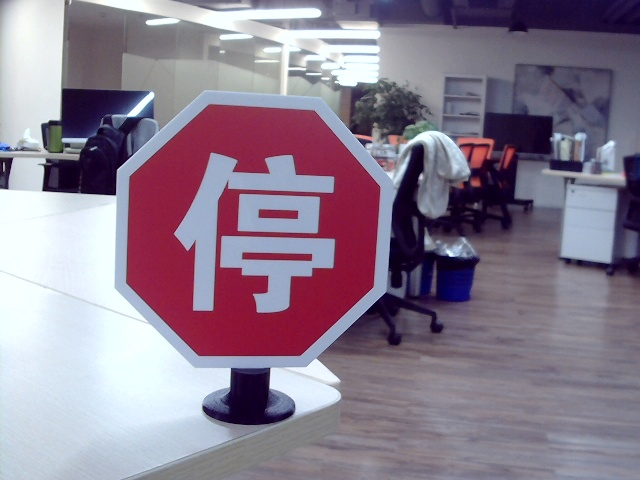stop: (174, 148, 339, 316)
